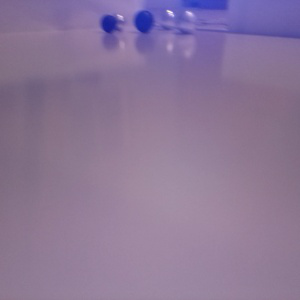alive_ball: (177, 10, 197, 35), (159, 10, 177, 30), (114, 14, 126, 30)
dead_ball: (134, 10, 154, 32), (101, 15, 117, 33)
